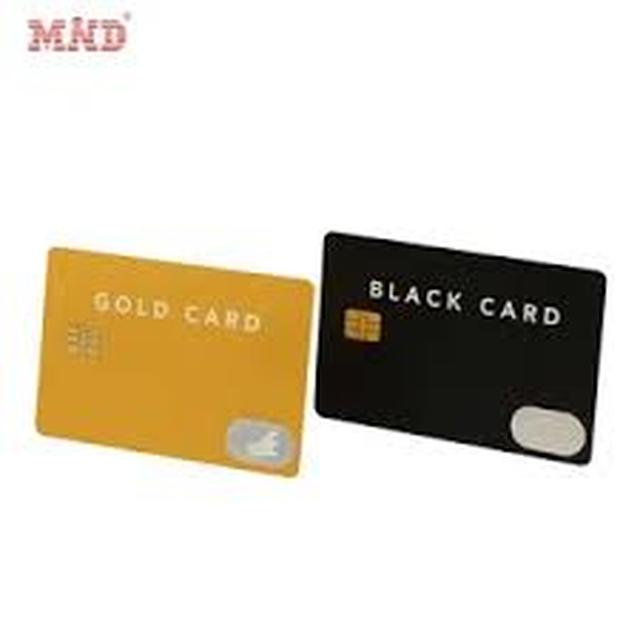card: (304, 203, 617, 475), (26, 229, 336, 493)
